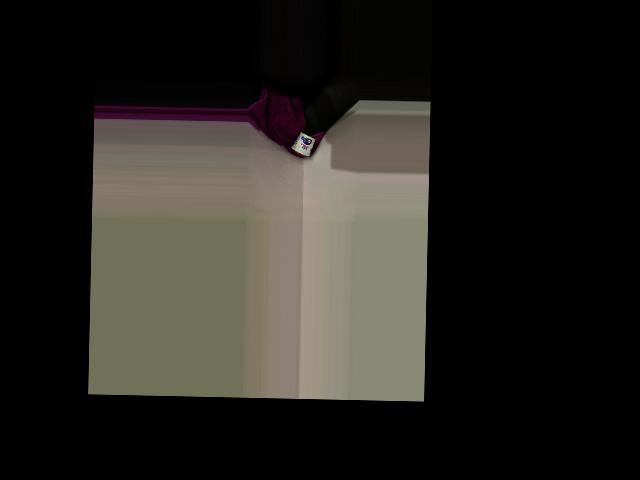cotage: (291, 132, 314, 158)
